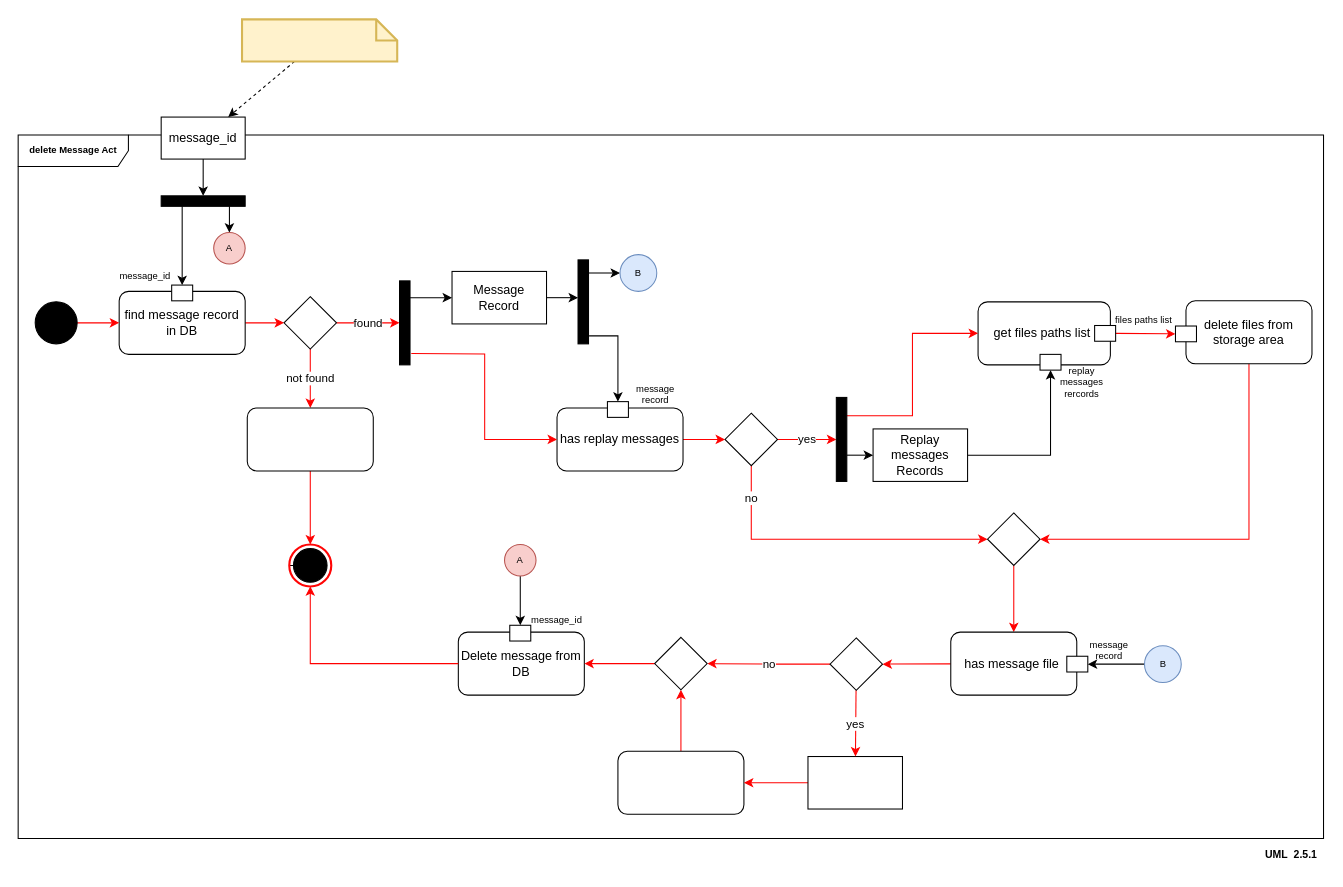
Some shapes in this 1343 by 887 pixel diagram are drawn without their labels. The shapes that lost their labels are listed below. From the top down, each one's centre as x and y in pixels, then its label:
[319,40]: from HTTP Request
[309,439]: Show Error
[680,782]: delete file from storage area
[854,782]: file path
